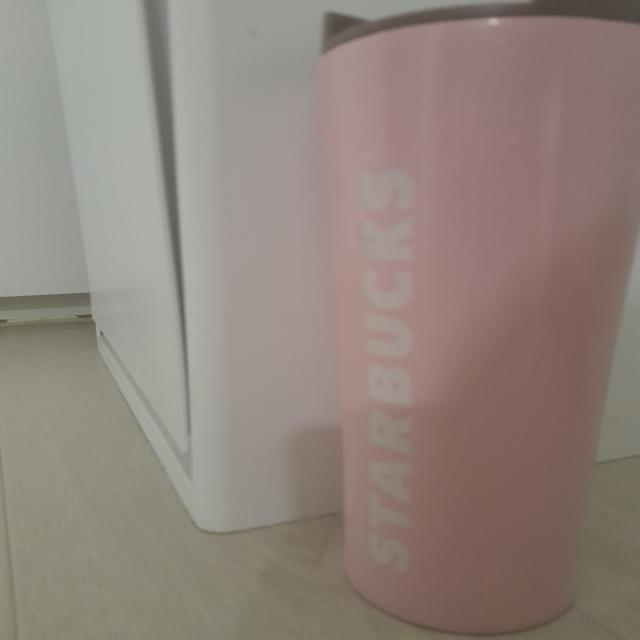waterbottle: (309, 2, 635, 636)
